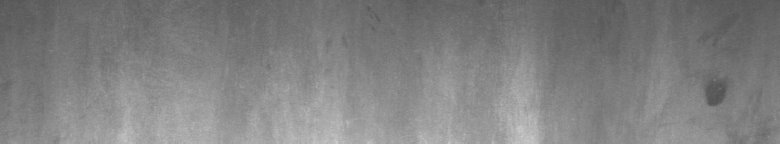fi: (701, 36, 728, 112)
